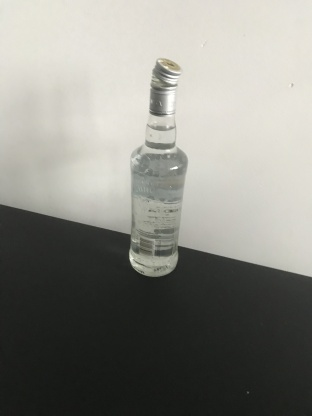nakretka: (148, 55, 182, 118)
